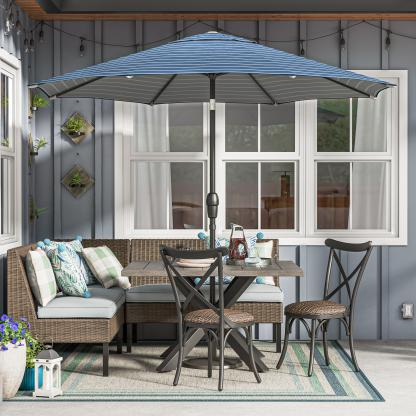table: (117, 253, 310, 378)
